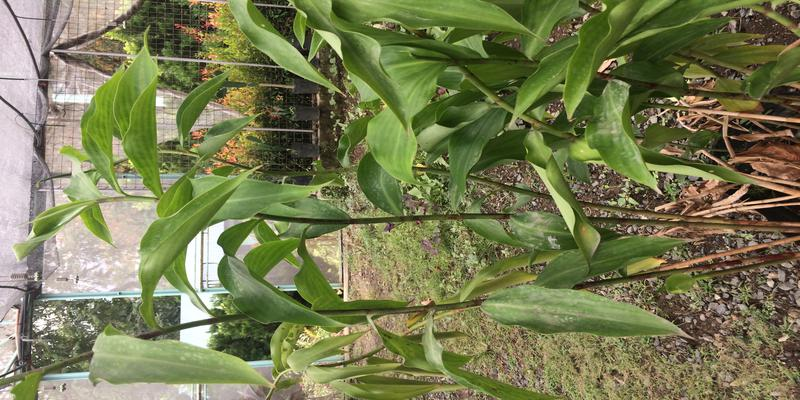Insulin: (83, 90, 722, 351)
